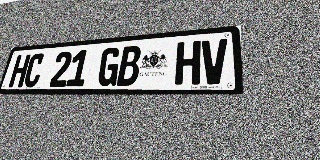1: (66, 49, 90, 87)
2: (49, 51, 73, 87)
B: (117, 45, 142, 86)
C: (22, 53, 46, 87)
G: (97, 47, 121, 86)
H: (175, 41, 201, 85), (8, 54, 31, 87)
V: (201, 38, 228, 85)
